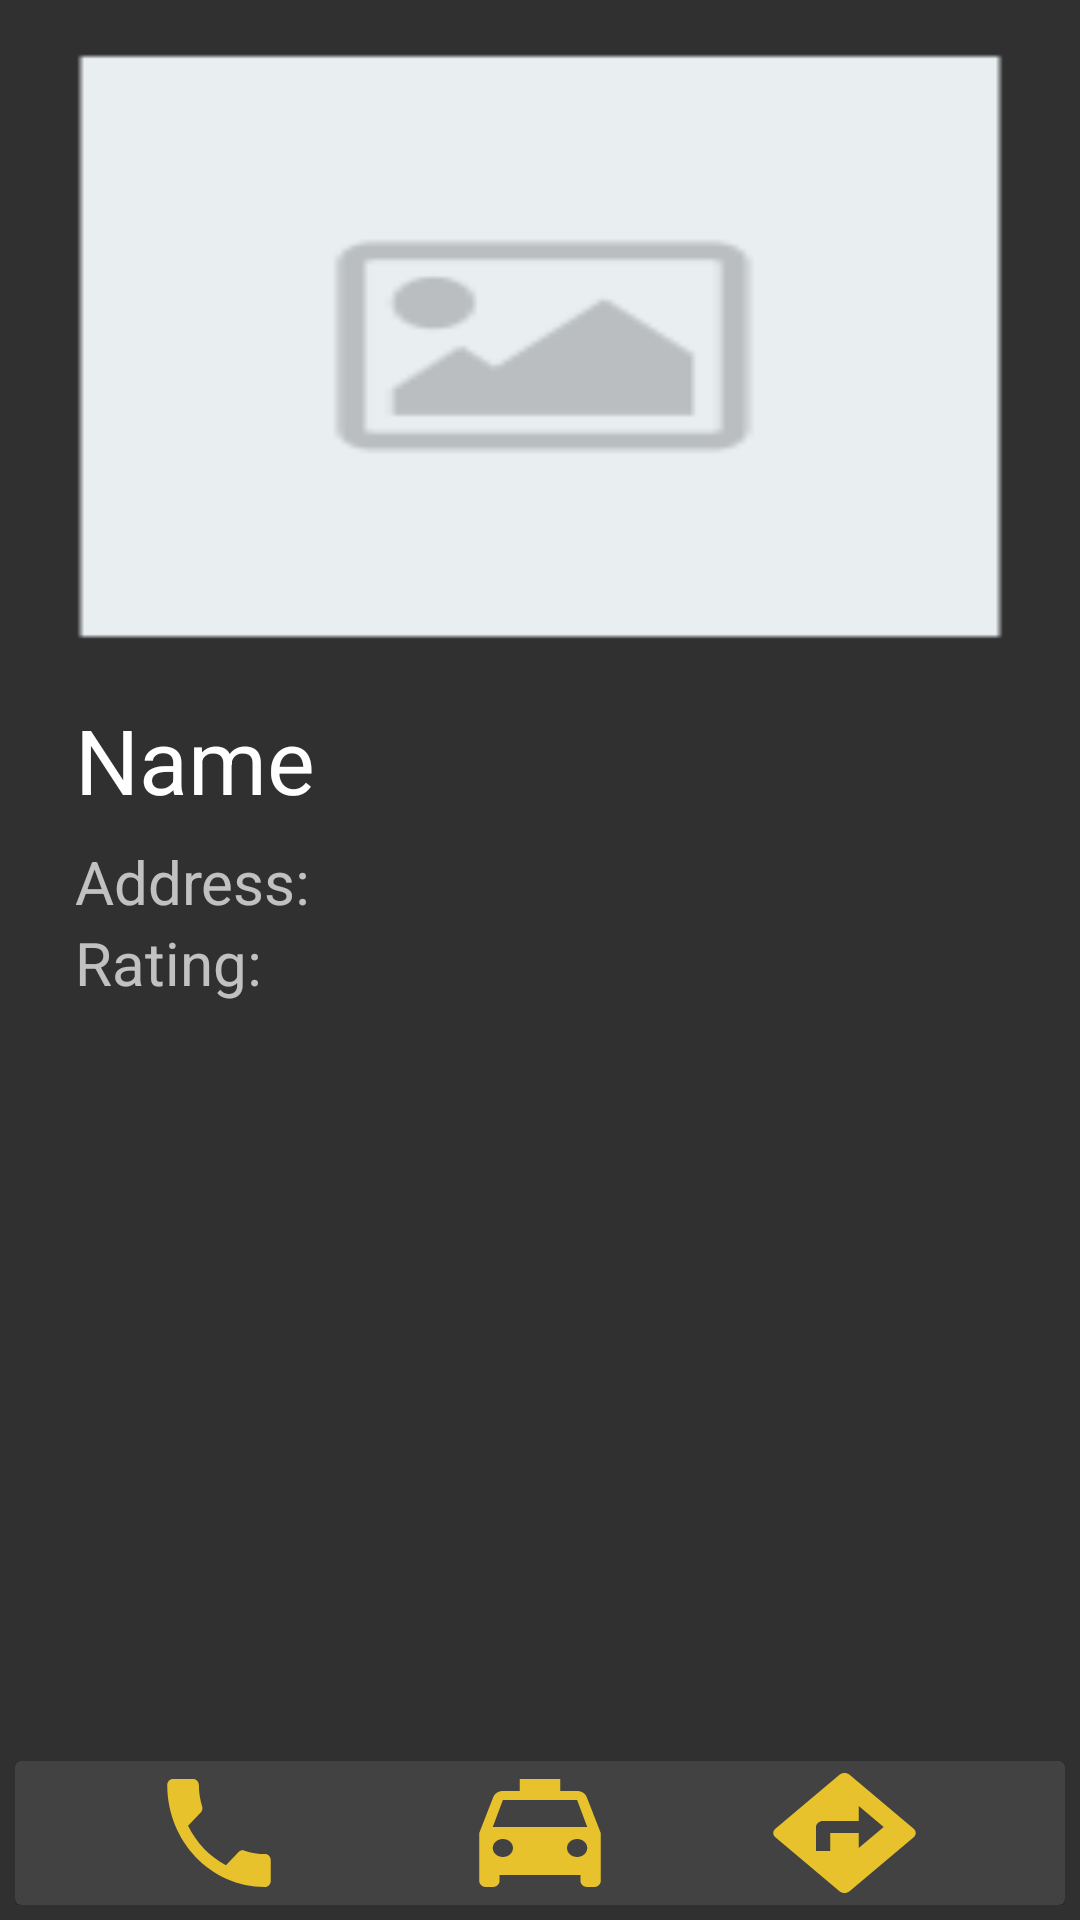

Screen size 1080 × 1920. Icon name, then its box in pixels as (x1, y1, x2, y2):
call: (167, 1779, 271, 1887)
directions: (773, 1773, 916, 1893)
directions car: (479, 1779, 601, 1887)
